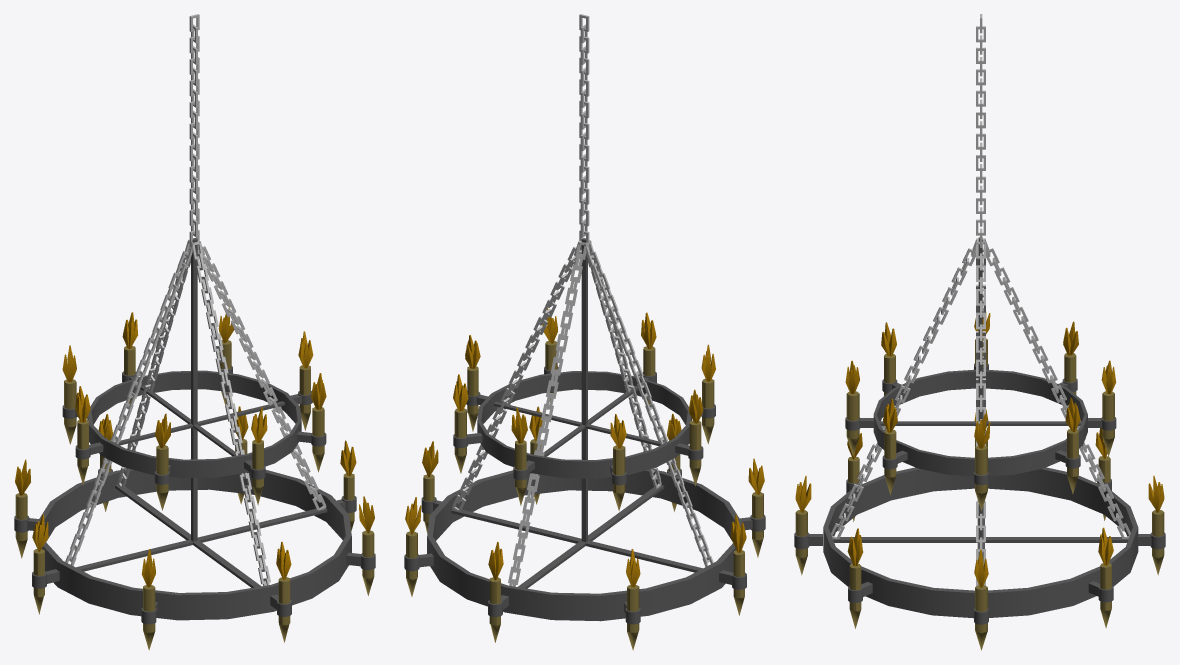
File: MedievalChandelier.fbx
3 renders of one model, left to right at view 1: azimuth 30°, elevation 25°; view 2: azimuth 150°, elevation 25°; view 3: azimuth 270°, elevation 25°, orthographic.
Visible parts, largest first — view 1: pCube219; view 2: pCube219; view 3: pCube219.
Boxes of the visible parts, bbox=[...] form: pCube219: bbox=[14, 14, 375, 650]; pCube219: bbox=[404, 14, 765, 650]; pCube219: bbox=[794, 14, 1165, 650].
Size of the model in its own units: 6.11 by 10.16 by 6.11.
